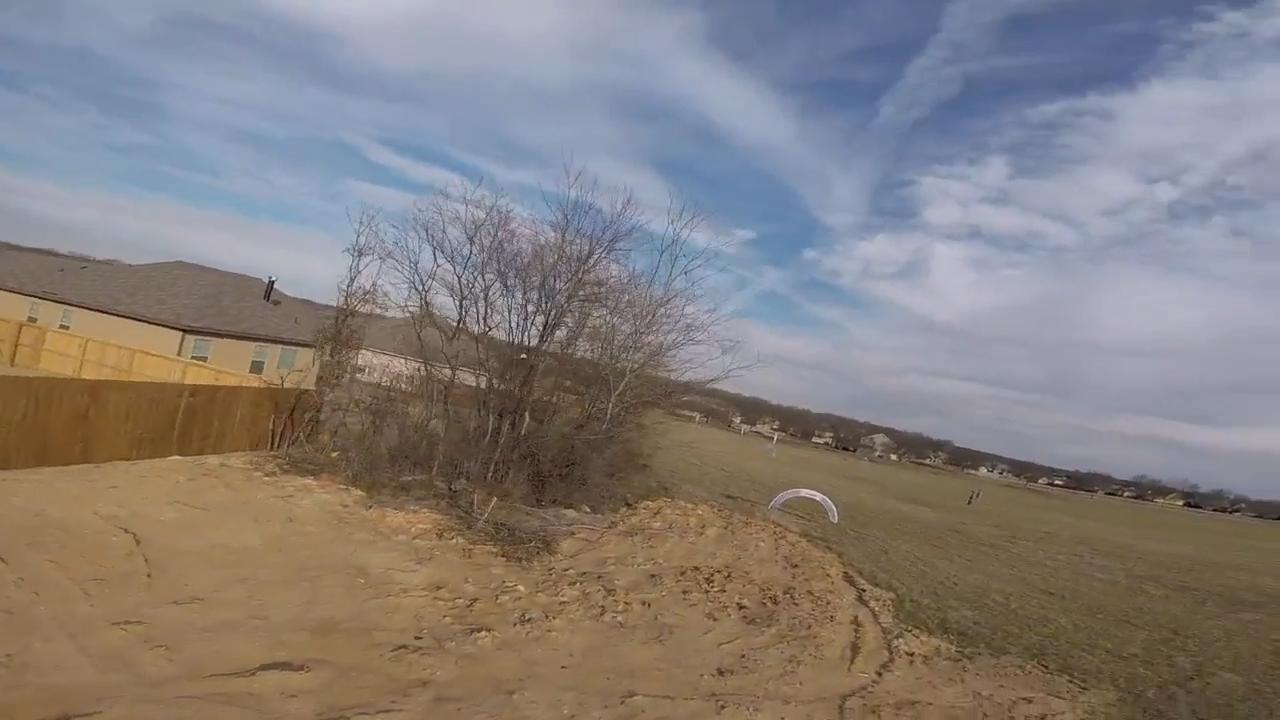gate: (769, 485, 842, 534)
